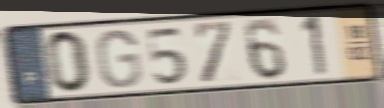0: (43, 29, 94, 95)
1: (300, 13, 329, 80)
5: (144, 24, 189, 86)
6: (242, 16, 288, 83)
7: (193, 19, 235, 86)
G: (94, 27, 144, 91)
